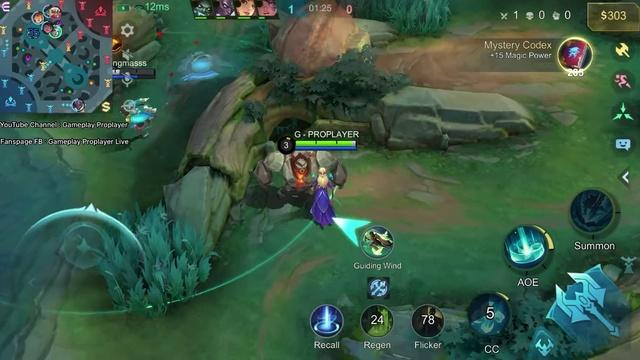Adc_Aliado: (70, 99, 86, 112)
Arbusto: (77, 201, 218, 316), (354, 0, 451, 35)
EXP_Lane: (0, 0, 12, 15)
Esbirro_Jungla: (254, 142, 345, 204)
Exp_Aliado: (42, 4, 52, 17)
Gold_Lane: (98, 95, 111, 114)
HP_Aliado: (112, 69, 156, 75)
HP_Heroe_Principal: (295, 141, 357, 146)
Jungla_Aliado: (32, 12, 45, 24)
Mana: (295, 145, 356, 150), (110, 75, 157, 78)
Matilda: (121, 98, 156, 135)
Mid_Aliado: (51, 25, 63, 39)
Mid_Enemigo: (49, 7, 61, 20)
Minimapa: (0, 0, 113, 113)
Roamer_Aliado: (43, 22, 52, 34)
Skill2: (503, 225, 553, 270)
Vexana: (310, 167, 335, 228)
